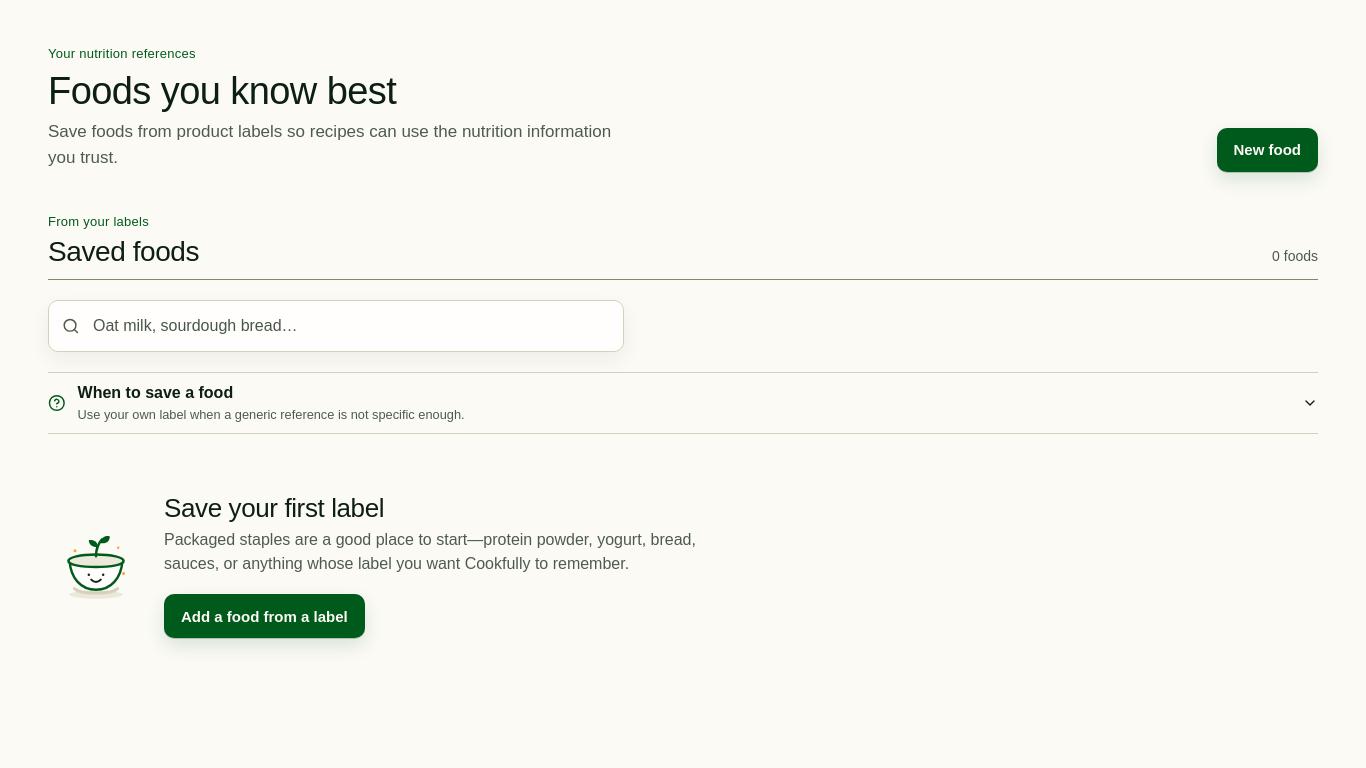
Scenario: gives an empty foods library a direct label-entry action
The width and height of the screenshot is (1366, 768).
Click the button "Add a food from a label" at (264, 616), box [164,594,365,638]
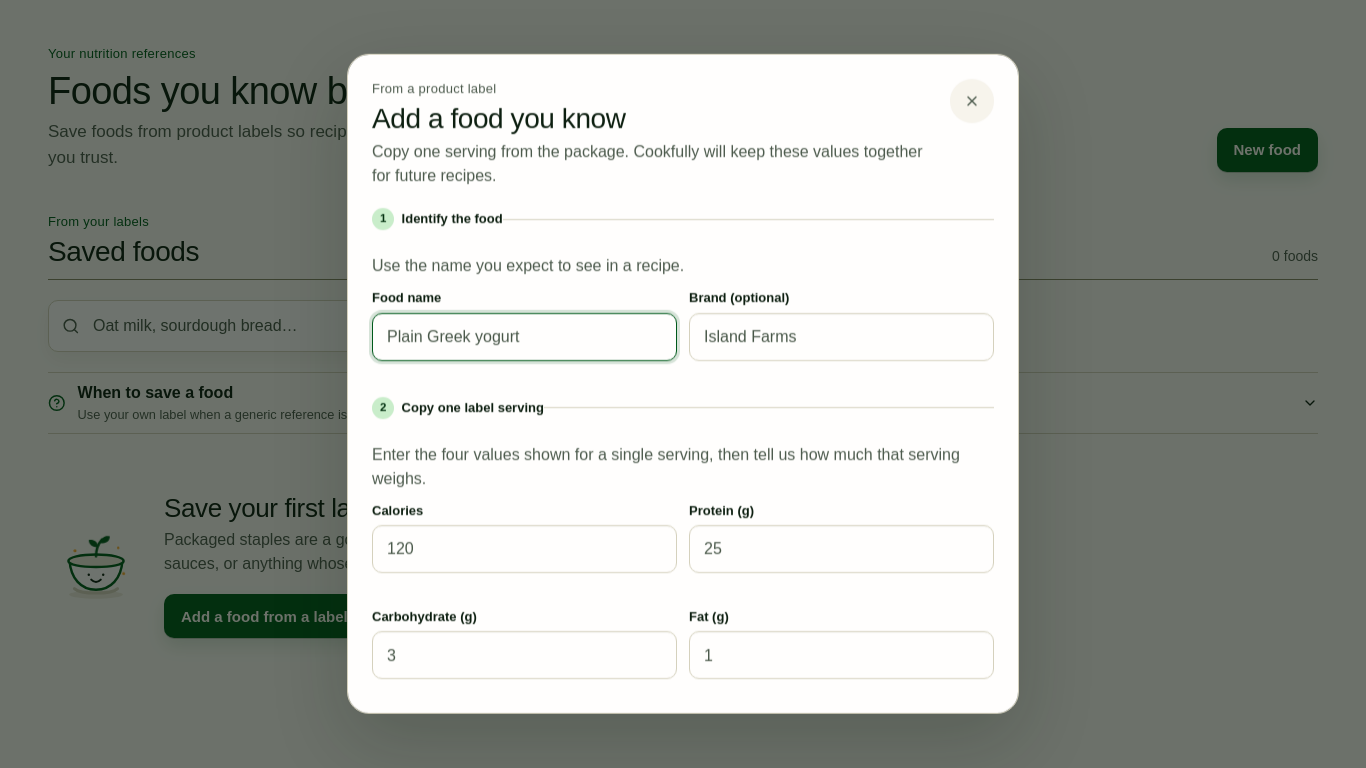
expect the dialog "Add a food you know" is shown: met, box [347,54,1019,714]
